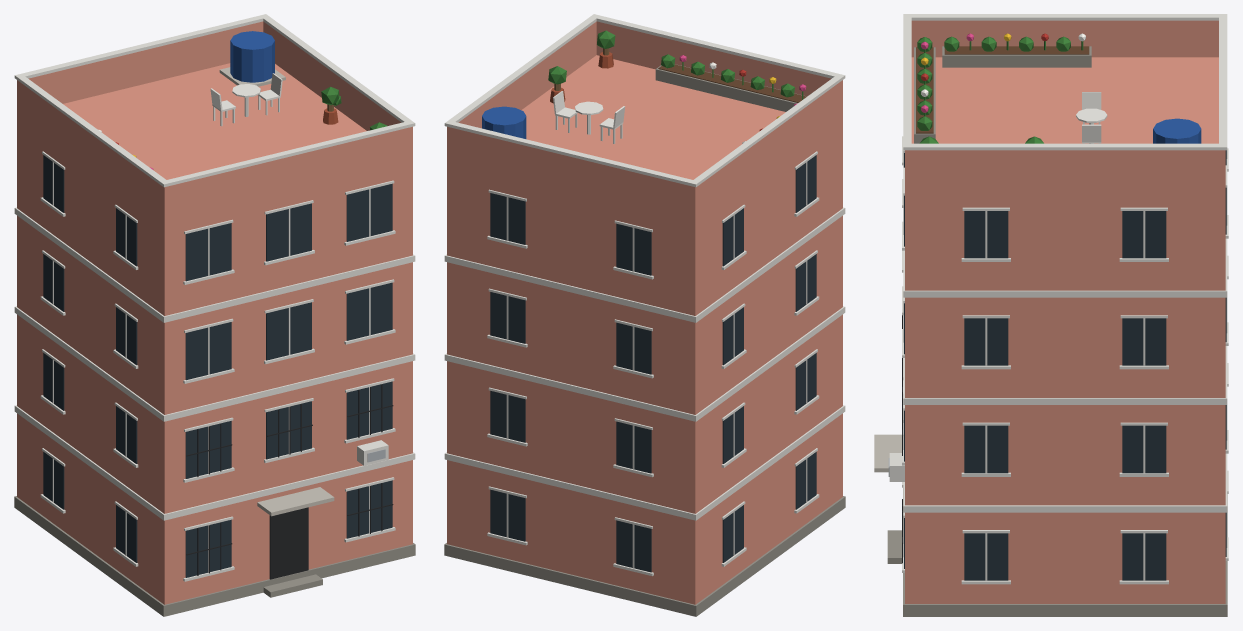
Rendered from BAY_F_Tower_M.glb.
The picture shows the model from 3 angles, left to right: view 1: azimuth 30°, elevation 25°; view 2: azimuth 150°, elevation 25°; view 3: azimuth 270°, elevation 25°; orthographic projection. The views are drawn at different scales.
Visible parts, largest first — view 1: BAY_F_Tower_M; view 2: BAY_F_Tower_M; view 3: BAY_F_Tower_M.
Part boxes in pixels (x1=…): BAY_F_Tower_M: x1=14, y1=14, x2=415, y2=616; BAY_F_Tower_M: x1=444, y1=14, x2=845, y2=616; BAY_F_Tower_M: x1=874, y1=14, x2=1228, y2=616.
Bounding box in the file's own units: 7.24 × 11.8 × 8.07.
1 material, 1 textured.
